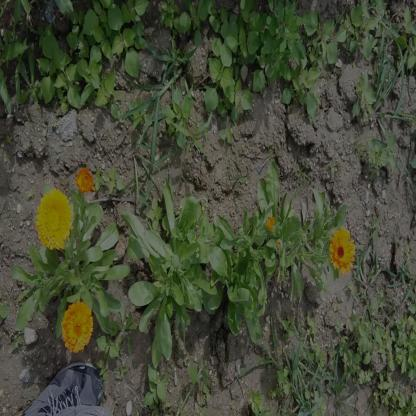marigold: (36, 188, 74, 252), (61, 303, 91, 354), (330, 229, 355, 273)
